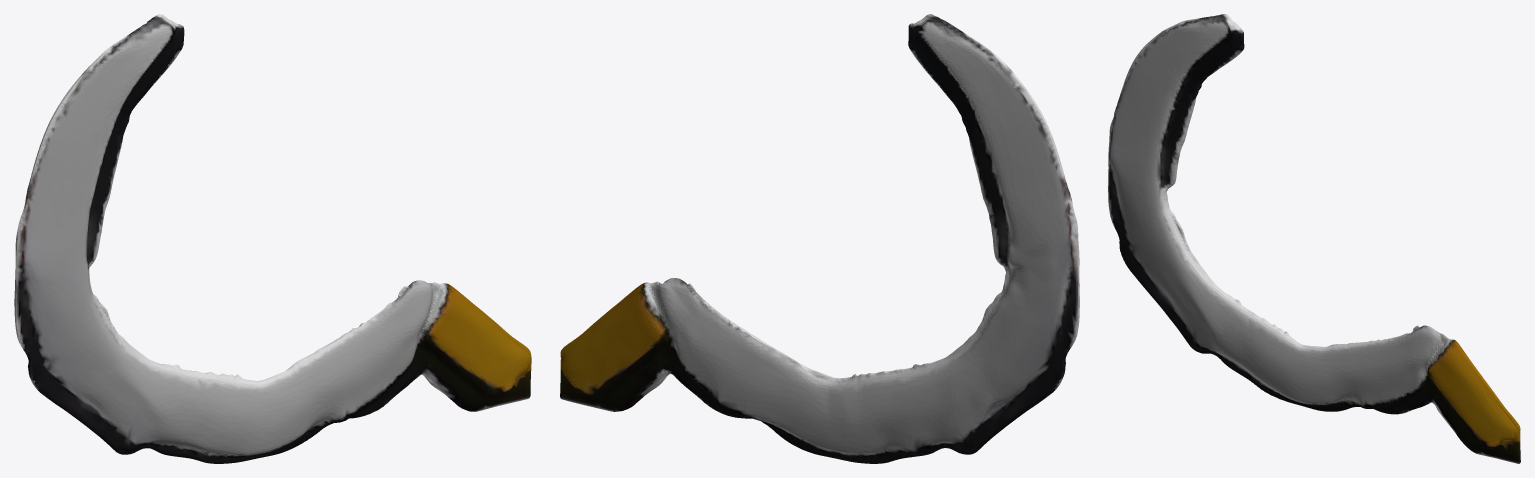
Rendered from sickle_1.glb.
3 renders of one model, left to right at view 1: azimuth 30°, elevation 25°; view 2: azimuth 150°, elevation 25°; view 3: azimuth 330°, elevation 25°, orthographic. The views are drawn at different scales.
Visible parts, largest first — view 1: geometry_0; view 2: geometry_0; view 3: geometry_0.
Part boxes in pixels (bbox=[...]): geometry_0: bbox=[14, 14, 531, 463]; geometry_0: bbox=[560, 14, 1079, 463]; geometry_0: bbox=[1108, 14, 1520, 463].
Bounding box in the file's own units: 0.9621 × 0.8438 × 0.0484.
